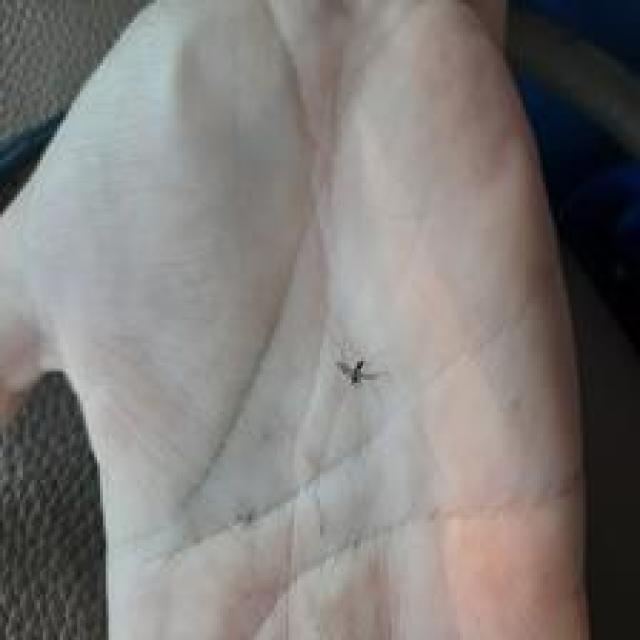Aedes albopictus: (334, 356, 380, 387)
